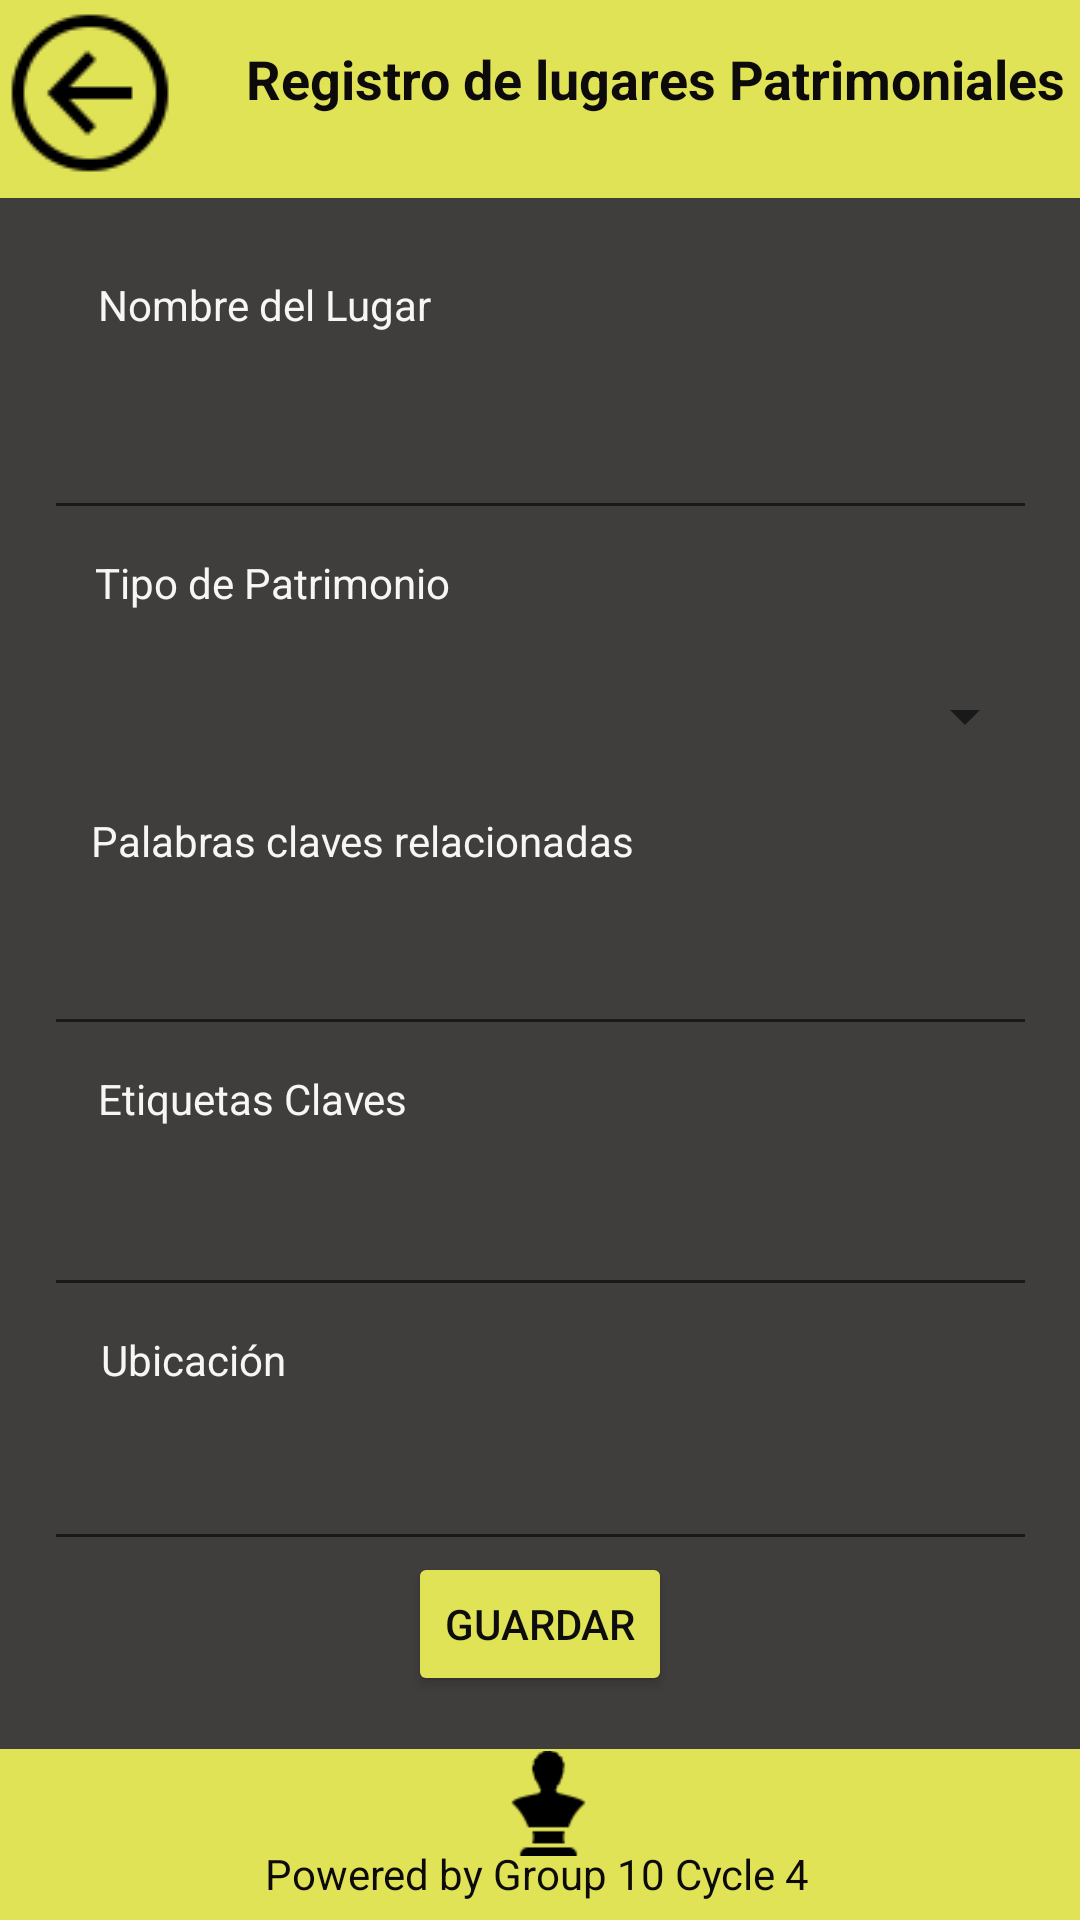

Screen size 1080x1920. Icon name, then its box in pixels as (x1,y1,x2,y2):
busto: (511,1751,586,1856)
izquierda en rculo: (11,14,169,172)
